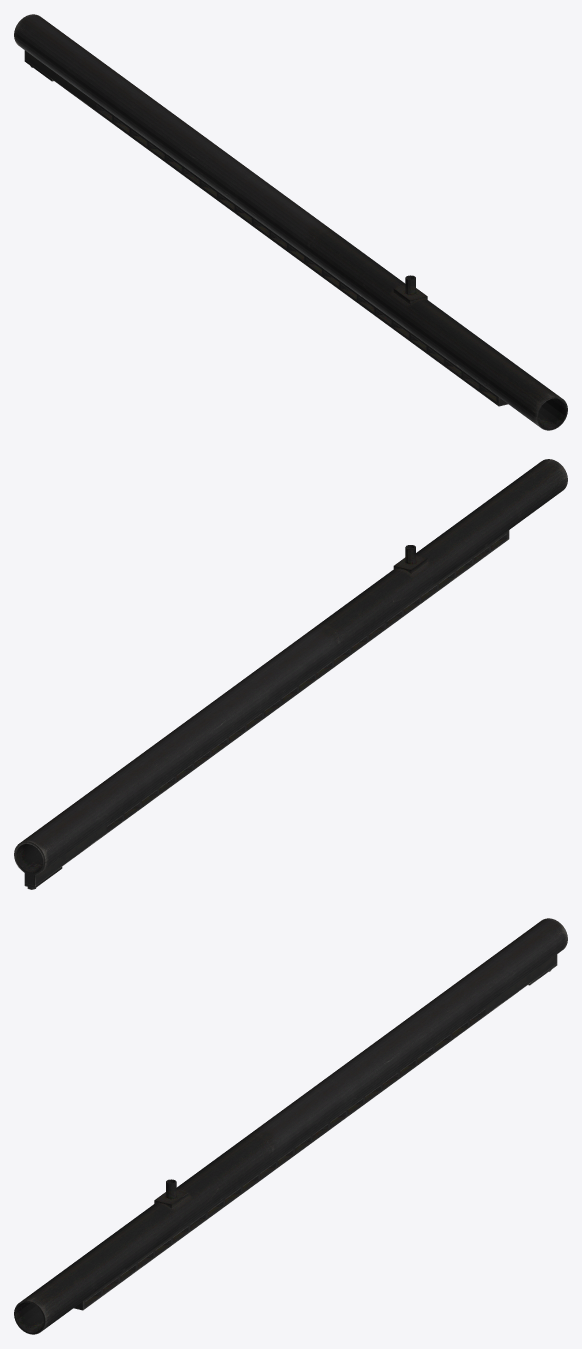
The picture shows the model from 3 angles, top to bottom: view 1: azimuth 30°, elevation 25°; view 2: azimuth 150°, elevation 25°; view 3: azimuth 330°, elevation 25°; orthographic projection.
Parts seen in each view (by area): view 1: TW_612368f58b401f4f51239b33_PZ_Import; view 2: TW_612368f58b401f4f51239b33_PZ_Import; view 3: TW_612368f58b401f4f51239b33_PZ_Import.
Boxes of the visible parts, x1,y1,x2,y2 form: TW_612368f58b401f4f51239b33_PZ_Import: (14,14,567,430); TW_612368f58b401f4f51239b33_PZ_Import: (14,459,567,889); TW_612368f58b401f4f51239b33_PZ_Import: (14,918,567,1334).
Size of the model in its own units: 0.0125 by 0.3592 by 0.0249.
1 material, 1 textured.
